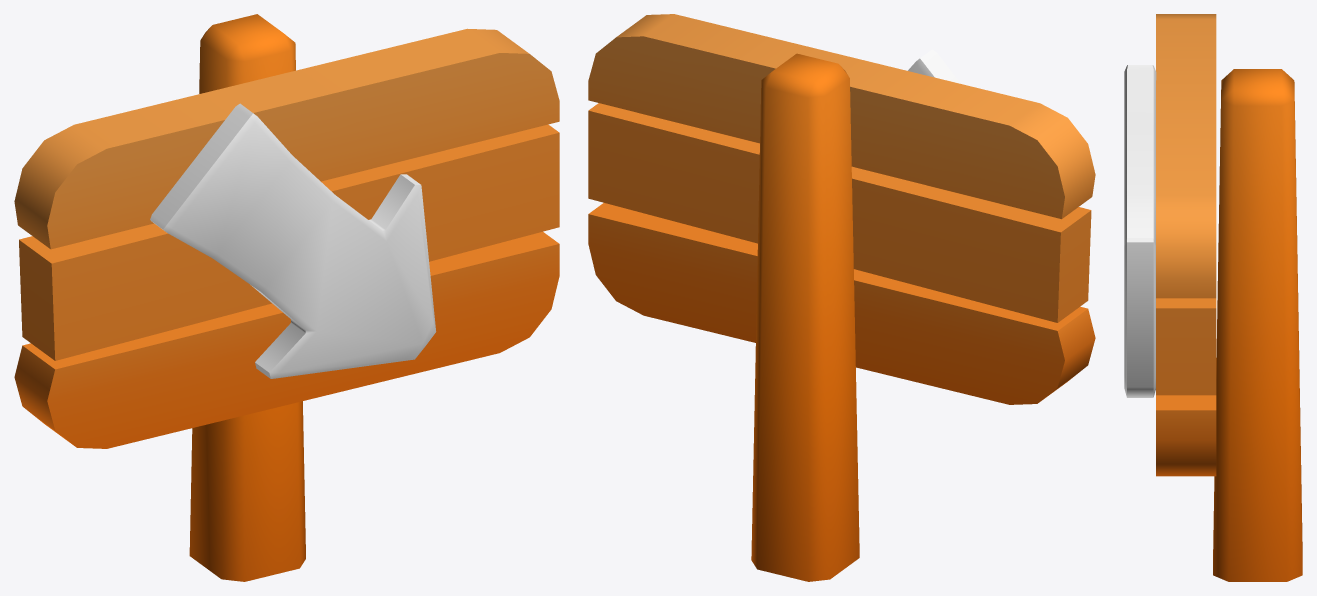
Rendered from Props_Wooden_Sign_07.fbx.
3 renders of one model, left to right at view 1: azimuth 30°, elevation 25°; view 2: azimuth 150°, elevation 25°; view 3: azimuth 270°, elevation 25°, orthographic. The views are drawn at different scales.
Visible parts, largest first — view 1: Props_Wooden_Sign_07; view 2: Props_Wooden_Sign_07; view 3: Props_Wooden_Sign_07.
Boxes of the visible parts, x1=… form: Props_Wooden_Sign_07: x1=14, y1=14, x2=559, y2=581; Props_Wooden_Sign_07: x1=588, y1=14, x2=1095, y2=581; Props_Wooden_Sign_07: x1=1124, y1=14, x2=1302, y2=581.
Bounding box in the file's own units: 90.11 × 88.8 × 29.65.
